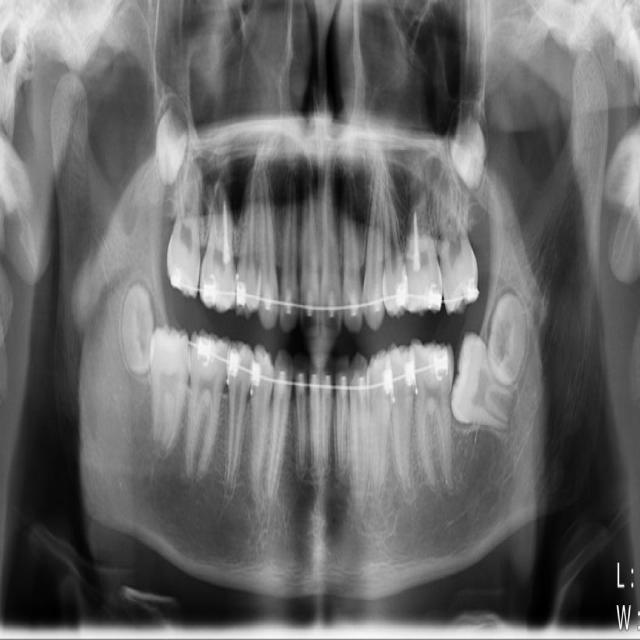3M ESPE Implant: (149, 103, 195, 190)
73: (594, 568, 598, 582)
BioHorizons Implant: (437, 142, 482, 318)
BioLife Implant: (437, 117, 499, 193)
Blue Sky Bio Implant: (447, 334, 520, 435)
Caries: (165, 154, 203, 300)
Implant: (136, 324, 195, 454)
Keystone Dental Implant: (118, 287, 156, 380)
